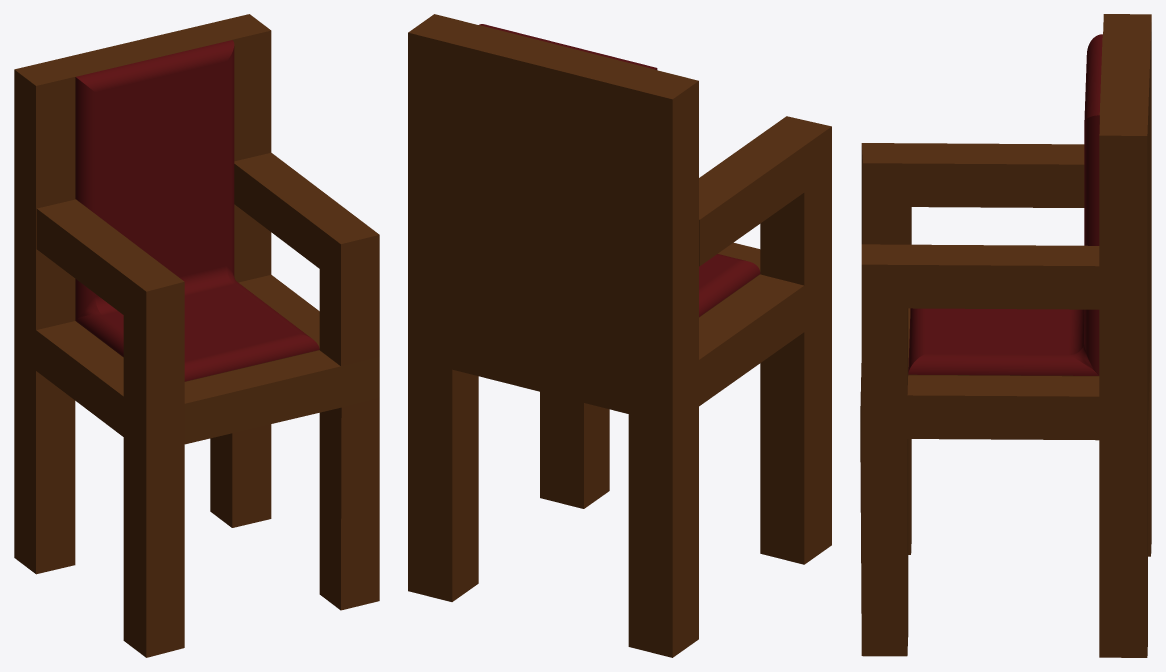
Rendered from DiningChair.glb.
3 renders of one model, left to right at view 1: azimuth 30°, elevation 25°; view 2: azimuth 150°, elevation 25°; view 3: azimuth 270°, elevation 25°, orthographic. The views are drawn at different scales.
Visible parts, largest first — view 1: DiningChair-convcol; view 2: DiningChair-convcol; view 3: DiningChair-convcol.
Part boxes in pixels (box(x1,y1,x2,y2)): DiningChair-convcol: box(14, 14, 379, 657); DiningChair-convcol: box(408, 14, 831, 657); DiningChair-convcol: box(860, 14, 1151, 657).
Bounding box in the file's own units: 6.09 × 12 × 6.07.
